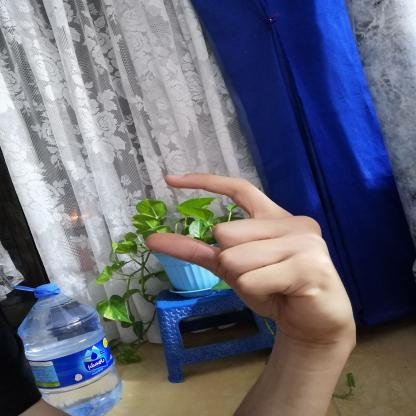DELL: (135, 163, 362, 350)
